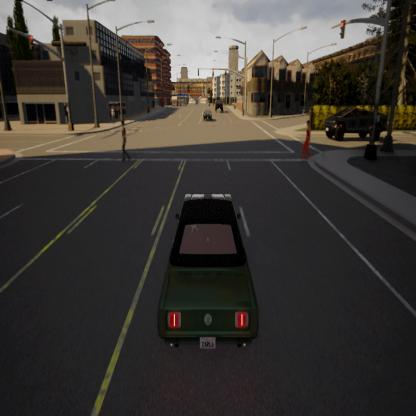Cars: (166, 186, 265, 359), (322, 103, 392, 140), (213, 95, 225, 116), (202, 108, 214, 125)
Pedestrian: (114, 120, 138, 162), (300, 117, 315, 157)
